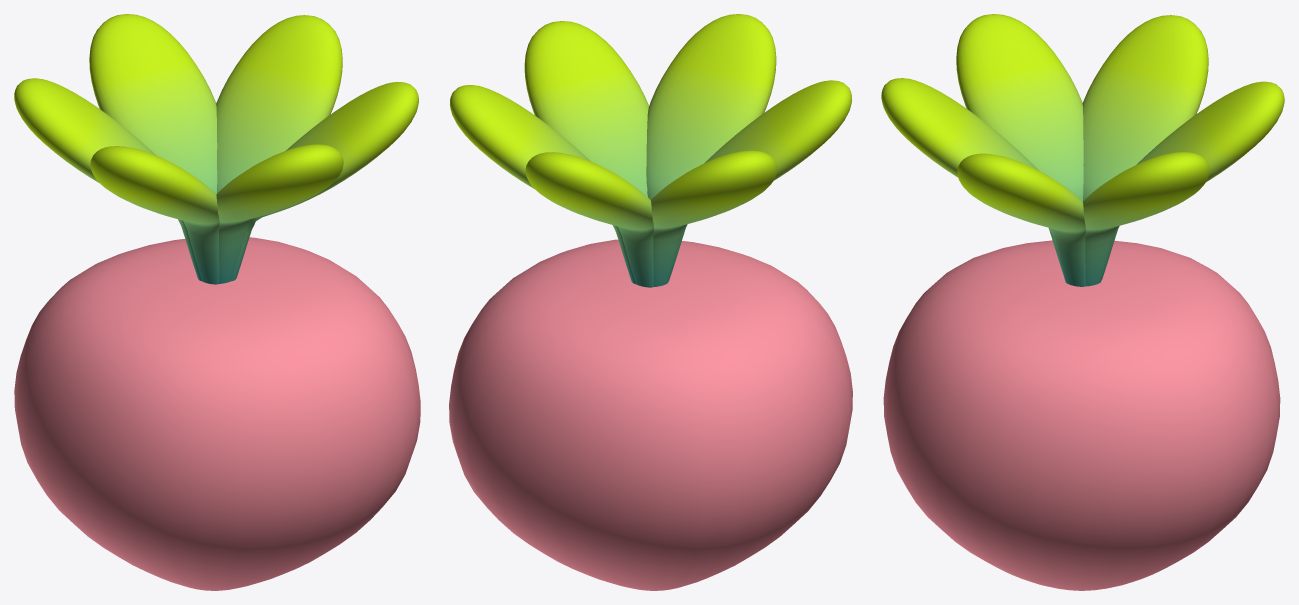
The model's file is beet.fbx.
The picture shows the model from 3 angles, left to right: view 1: azimuth 30°, elevation 25°; view 2: azimuth 150°, elevation 25°; view 3: azimuth 270°, elevation 25°; orthographic projection.
Parts seen in each view (by area): view 1: beet, beetleaf; view 2: beet, beetleaf; view 3: beet, beetleaf.
Boxes of the visible parts, <box> form: beet: <box>14,237,420,590</box>; beetleaf: <box>14,14,418,284</box>; beet: <box>449,239,852,590</box>; beetleaf: <box>450,14,851,287</box>; beet: <box>883,240,1280,590</box>; beetleaf: <box>881,14,1284,286</box>.
Bounding box in the file's own units: 962 × 1343 × 978.
Materials: 1 (1 with a texture image).
